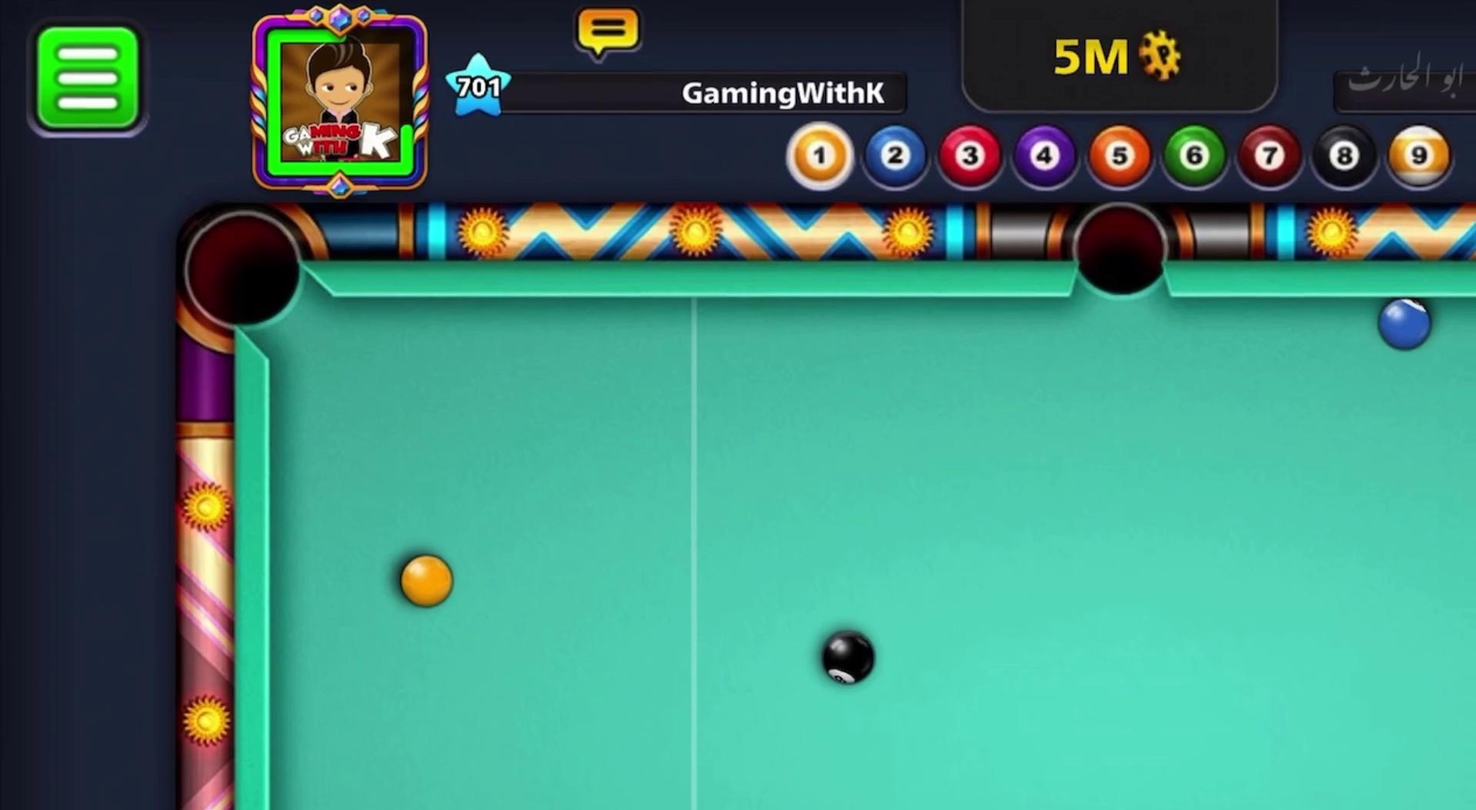Ball: (379, 540, 472, 614), (811, 622, 892, 691), (1376, 284, 1441, 362)
Hole: (166, 197, 340, 347), (1050, 191, 1183, 312)
